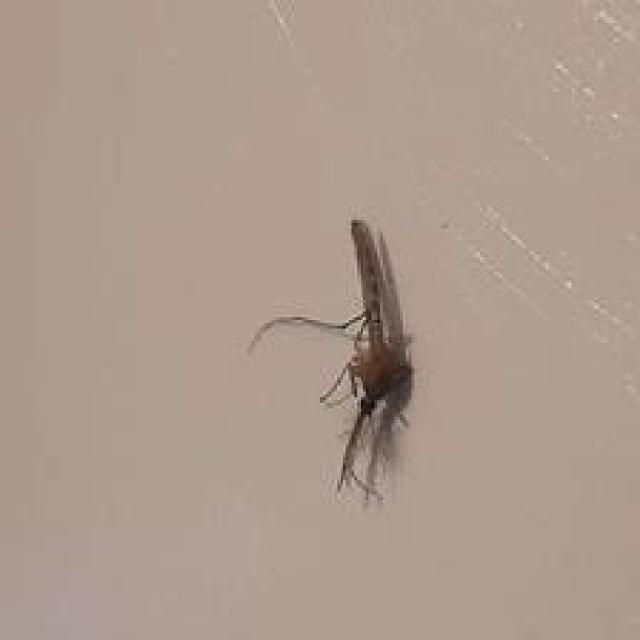Culex: (246, 216, 417, 507)
